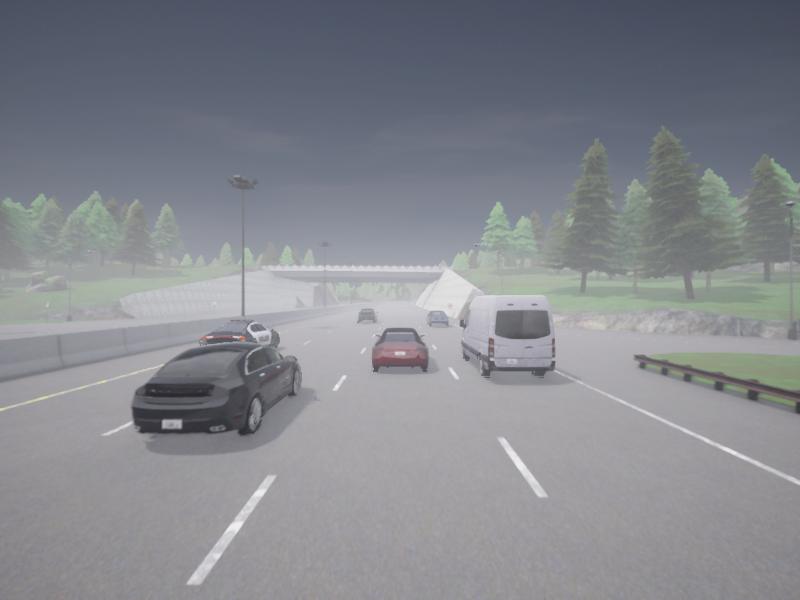vehicle: (131, 342, 300, 434), (459, 295, 554, 376), (372, 327, 428, 369), (199, 319, 278, 348), (426, 311, 448, 325), (358, 308, 378, 322)
